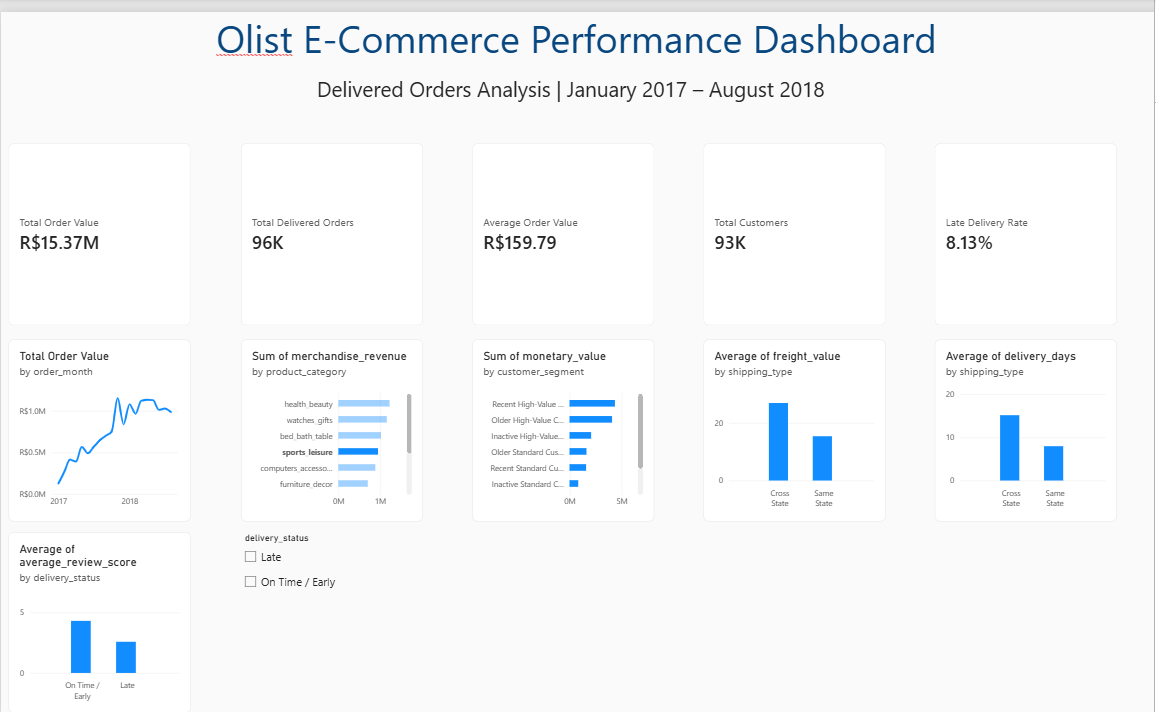

The page's visual inventory and layout, read from the dashboard file:
{"tool":"powerbi","page":{"name":"Olist_Ecommerce_Analysis","canvas":[1920,1080],"ordinal":0},"visuals":[{"type":"cardVisual","fields":{"Data":["Monthly sales.Total Order Value"]},"box":[12.3,201.7,280,280],"z":0},{"type":"cardVisual","fields":{"Data":["Monthly sales.Total Delivered Orders"]},"box":[368.4,201.7,280,280],"z":1000},{"type":"cardVisual","fields":{"Data":["Monthly sales.Average Order Value"]},"box":[724.5,201.7,280,280],"z":2000},{"type":"cardVisual","fields":{"Data":["Customer RFM.Total Customers"]},"box":[1080.6,201.7,280,280],"z":3000},{"type":"cardVisual","fields":{"Data":["DeliveryPerformance.Late Delivery Rate"]},"box":[1436.7,201.7,280,280],"z":4000},{"type":"lineChart","fields":{"Y":["Monthly sales.Total Order Value"],"Category":["Monthly sales.order_month"]},"box":[12.3,504.3,280,280],"z":5000},{"type":"clusteredBarChart","fields":{"Category":["Product Categories.product_category"],"Y":["Sum(Product Categories.merchandise_revenue)"]},"box":[368.4,504.3,280,280],"z":6000},{"type":"clusteredBarChart","fields":{"Category":["Customer RFM.customer_segment"],"Y":["Sum(Customer RFM.monetary_value)"]},"box":[724.5,504.3,280,280],"z":7000},{"type":"clusteredColumnChart","fields":{"Category":["DeliveryPerformance.shipping_type"],"Y":["Avg(DeliveryPerformance.freight_value)"]},"box":[1080.6,504.3,280,280],"z":8000},{"type":"clusteredColumnChart","fields":{"Category":["DeliveryPerformance.shipping_type"],"Y":["Avg(DeliveryPerformance.delivery_days)"]},"box":[1436.7,504.3,280,280],"z":9000},{"type":"clusteredColumnChart","fields":{"Category":["DeliveryPerformance.delivery_status"],"Y":["Avg(DeliveryPerformance.average_review_score)"]},"box":[12.3,800,280,280],"z":10000},{"type":"slicer","fields":{"Values":["DeliveryPerformance.delivery_status"]},"box":[366.4,800,280,280],"z":11000},{"type":"textbox","box":[12.3,0,1747.5,98.8],"z":11001},{"type":"textbox","box":[314.9,96.7,1121.8,78.2],"z":11002}]}

Visuals, with their boxes on the page's 1920x1080 design canvas (x1, y1, x2, y2). These are canvas units, not pixel positions in the 1156x712 screenshot, which may show the page scaled, cropped or inside an application window:
cardVisual - Monthly sales.Total Order Value: 12/202/292/482
cardVisual - Monthly sales.Total Delivered Orders: 368/202/648/482
cardVisual - Monthly sales.Average Order Value: 724/202/1004/482
cardVisual - Customer RFM.Total Customers: 1081/202/1361/482
cardVisual - DeliveryPerformance.Late Delivery Rate: 1437/202/1717/482
lineChart - Monthly sales.Total Order Value x Monthly sales.order_month: 12/504/292/784
clusteredBarChart - Product Categories.product_category x Sum(Product Categories.merchandise_revenue): 368/504/648/784
clusteredBarChart - Customer RFM.customer_segment x Sum(Customer RFM.monetary_value): 724/504/1004/784
clusteredColumnChart - DeliveryPerformance.shipping_type x Avg(DeliveryPerformance.freight_value): 1081/504/1361/784
clusteredColumnChart - DeliveryPerformance.shipping_type x Avg(DeliveryPerformance.delivery_days): 1437/504/1717/784
clusteredColumnChart - DeliveryPerformance.delivery_status x Avg(DeliveryPerformance.average_review_score): 12/800/292/1080
slicer - DeliveryPerformance.delivery_status: 366/800/646/1080
textbox: 12/0/1760/99
textbox: 315/97/1437/175
